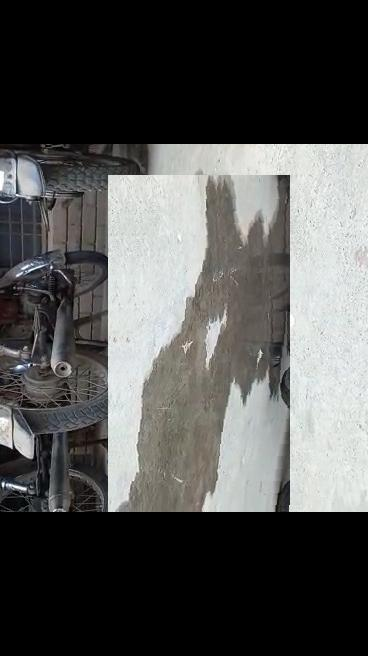water accumulation: (117, 175, 291, 512)
